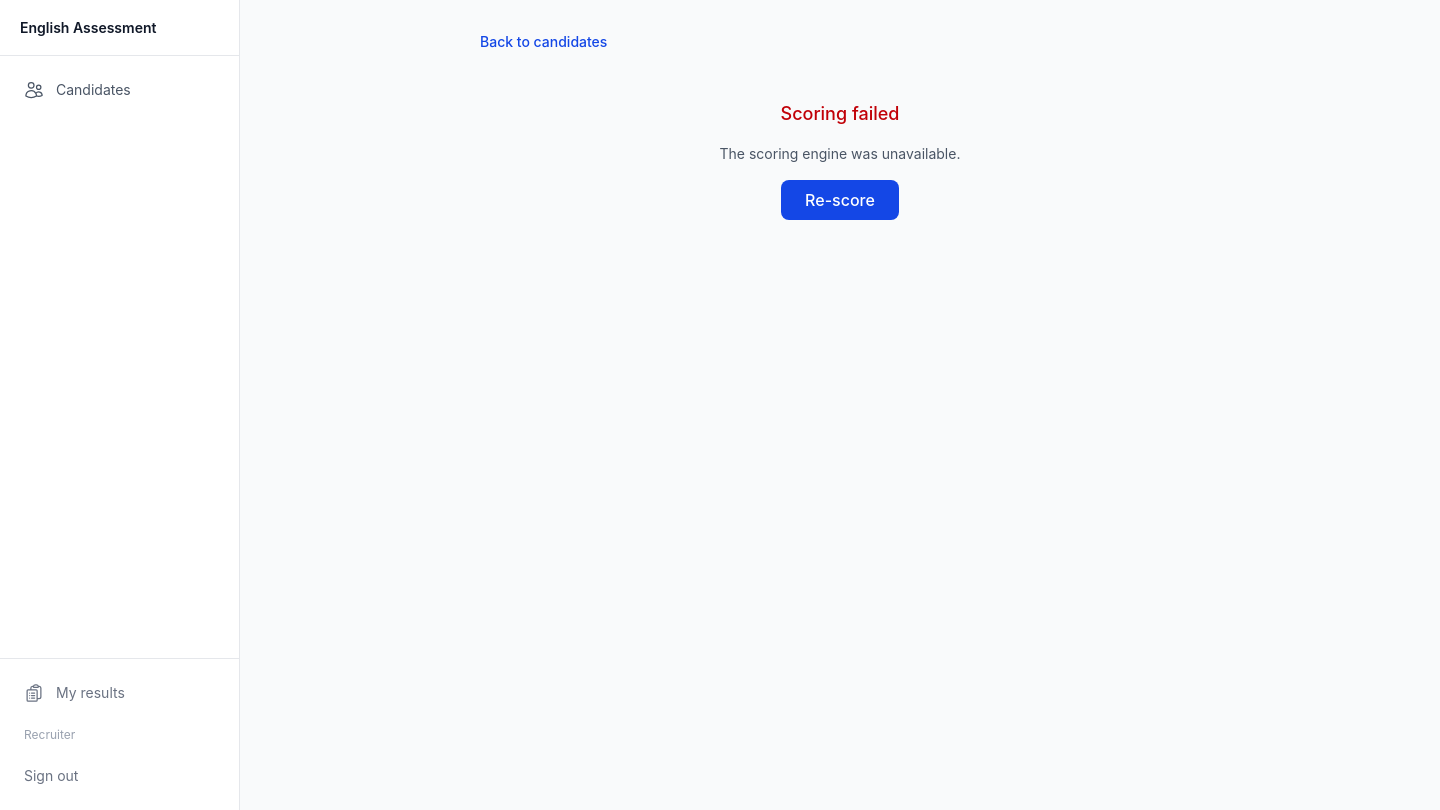
Test: a failed re-score keeps the report and shows an inline error
Click the button "Re-score" at (840,200), box [781, 180, 899, 220]
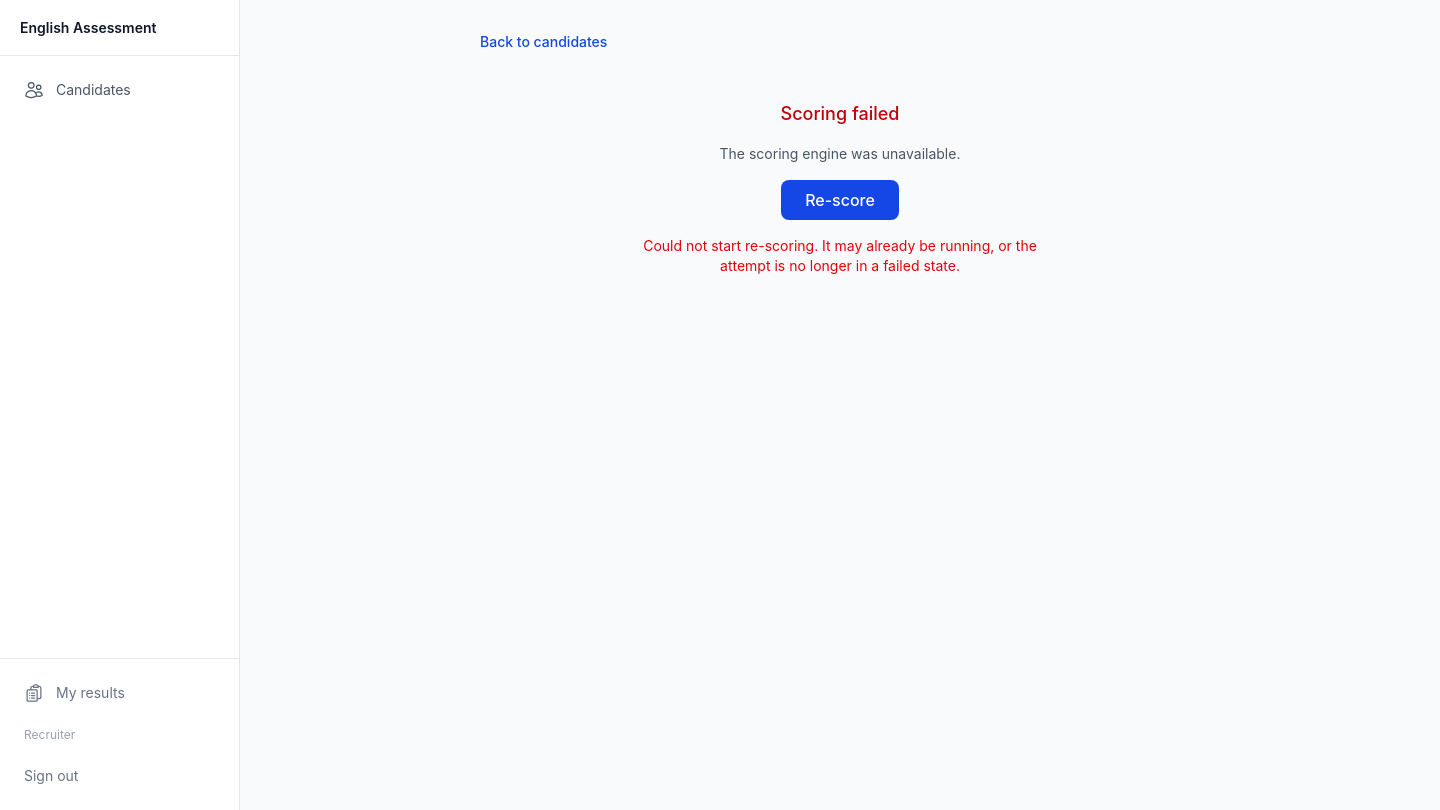
Now the text "Could not start re-scoring" is shown, box [643, 237, 1037, 274]
